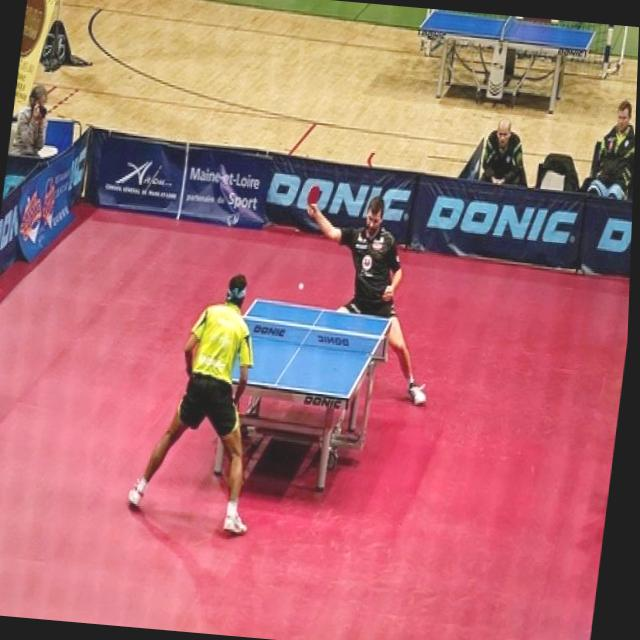TT Net: (210, 312, 389, 361), (497, 15, 515, 42)
TT Racket: (299, 181, 326, 211)
TT Table: (202, 299, 390, 397), (419, 11, 595, 48)
